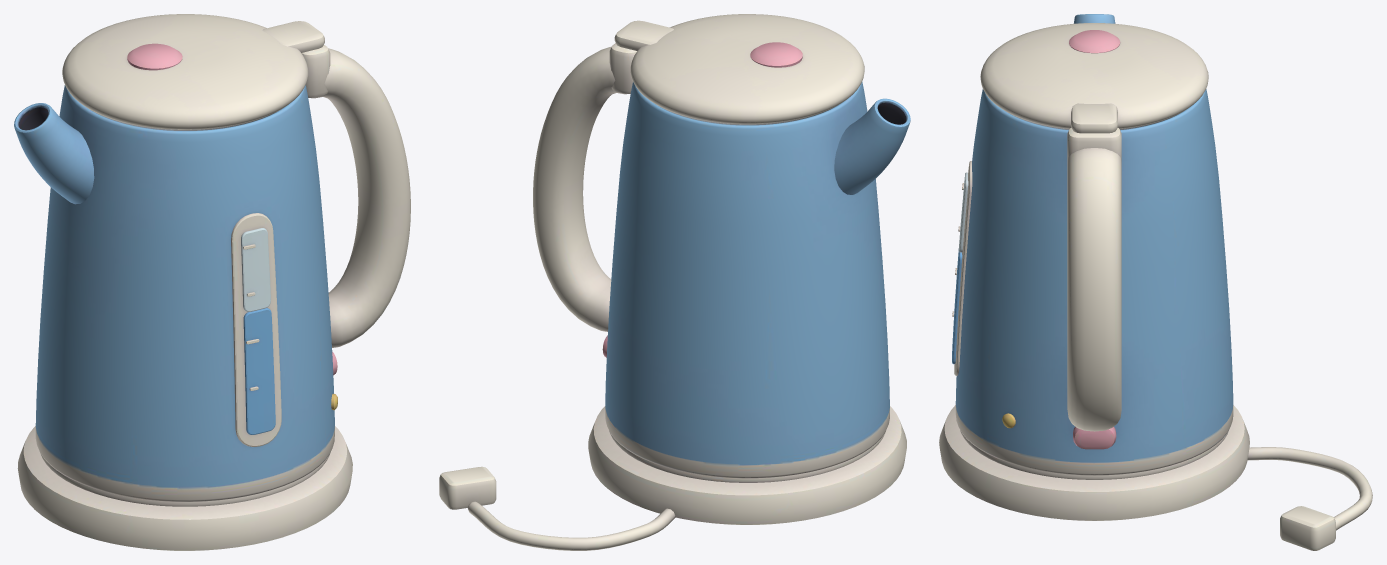
File: electric-kettle.glb
The picture shows the model from 3 angles, left to right: view 1: azimuth 30°, elevation 25°; view 2: azimuth 150°, elevation 25°; view 3: azimuth 270°, elevation 25°; orthographic projection. The views are drawn at different scales.
Parts seen in each view (by area): view 1: electric-kettle_body, electric-kettle_lid; view 2: electric-kettle_body, electric-kettle_lid; view 3: electric-kettle_body, electric-kettle_lid.
Boxes of the visible parts, bbox=[...] form: electric-kettle_body: bbox=[14, 45, 410, 550]; electric-kettle_lid: bbox=[62, 14, 324, 129]; electric-kettle_body: bbox=[439, 43, 910, 550]; electric-kettle_lid: bbox=[614, 14, 864, 124]; electric-kettle_body: bbox=[939, 14, 1372, 550]; electric-kettle_lid: bbox=[980, 23, 1208, 133].
Bounding box in the file's own units: 0.2297 × 0.25 × 0.2399.
2 materials, 2 textured.
